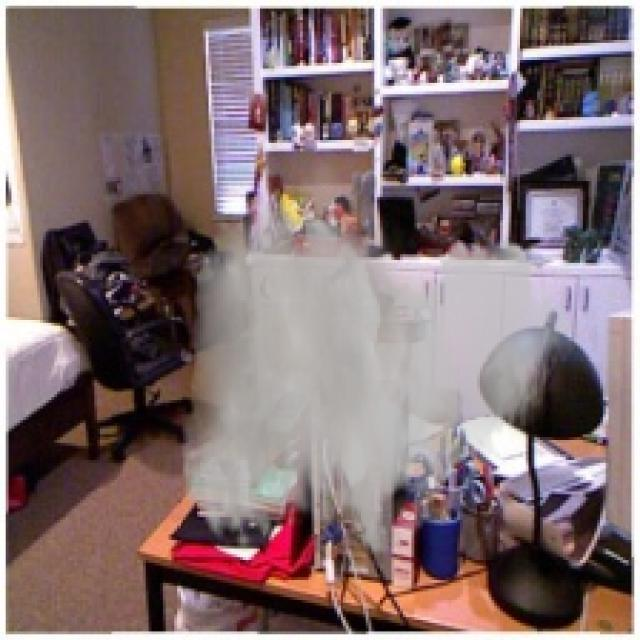Smoke: (180, 152, 583, 557)
